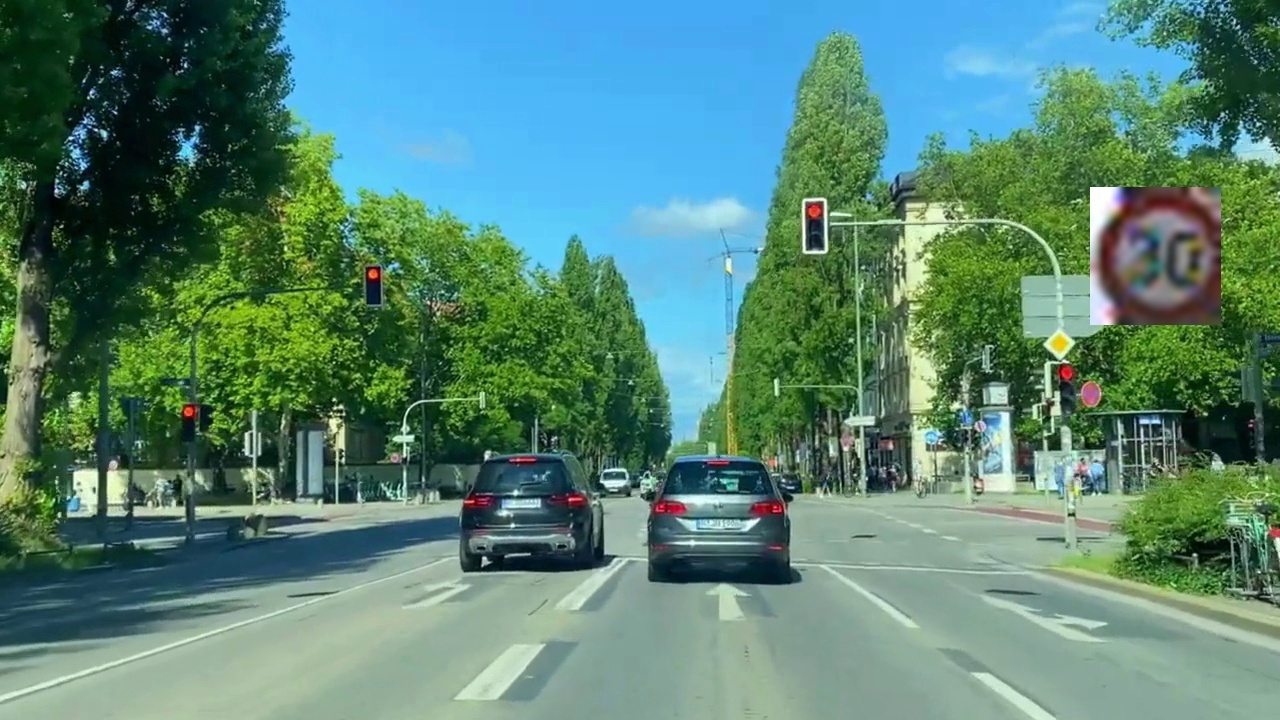Speed 30: (1090, 187, 1221, 325)
